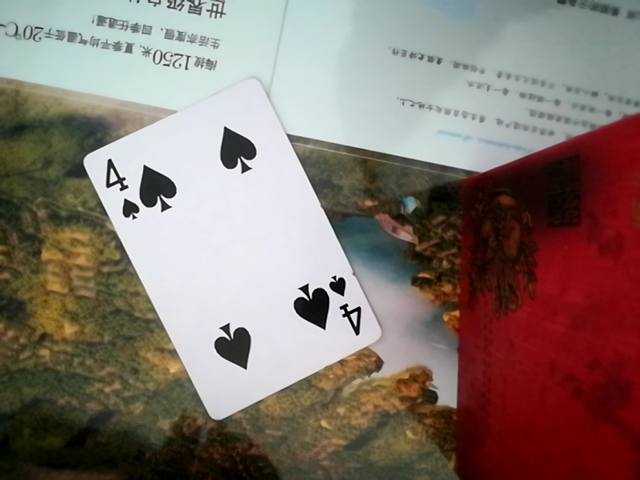ht 4: (80, 72, 387, 428)
